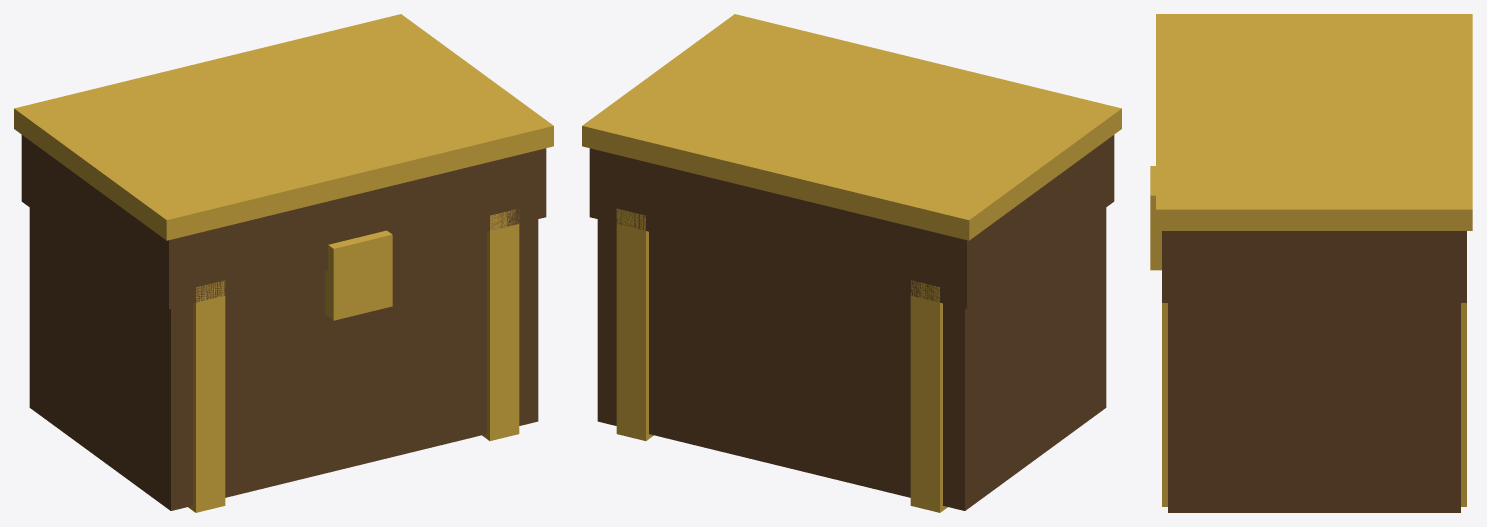
Rendered from chest.glb.
The picture shows the model from 3 angles, left to right: view 1: azimuth 30°, elevation 25°; view 2: azimuth 150°, elevation 25°; view 3: azimuth 270°, elevation 25°; orthographic projection. The views are drawn at different scales.
Visible parts, largest first — view 1: chest, lid; view 2: lid, chest; view 3: lid, chest.
Part boxes in pixels (x1,y1,x2,y2): chest: (29,208,538,512); lid: (14,14,553,309); lid: (582,14,1121,309); chest: (597,208,1106,512); lid: (1156,14,1472,302); chest: (1150,166,1466,512).
Bounding box in the file's own units: 0.79 × 0.59 × 0.55.
